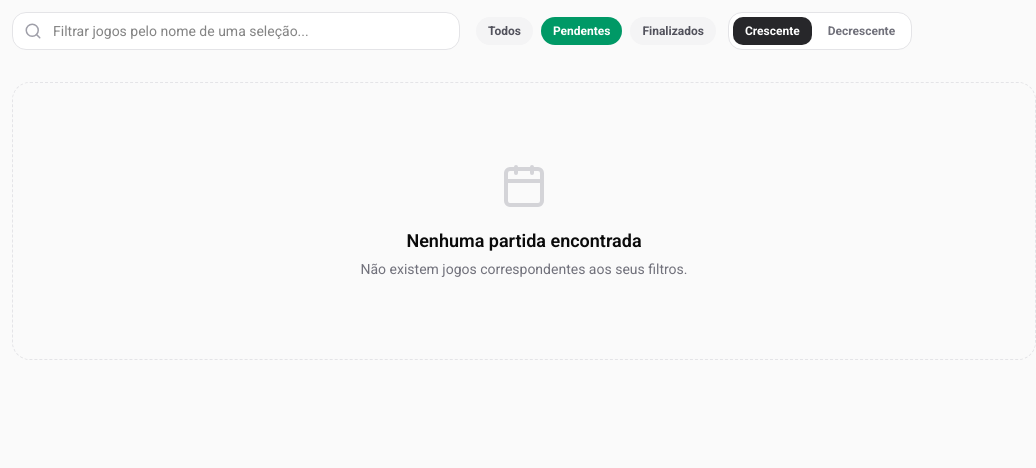
PalpitesStats › Status Labels › deve exibir status "Encerrado" quando o status da partida for FINALIZADO
Click the button "Todos": click(504, 31) [476,17,533,45]
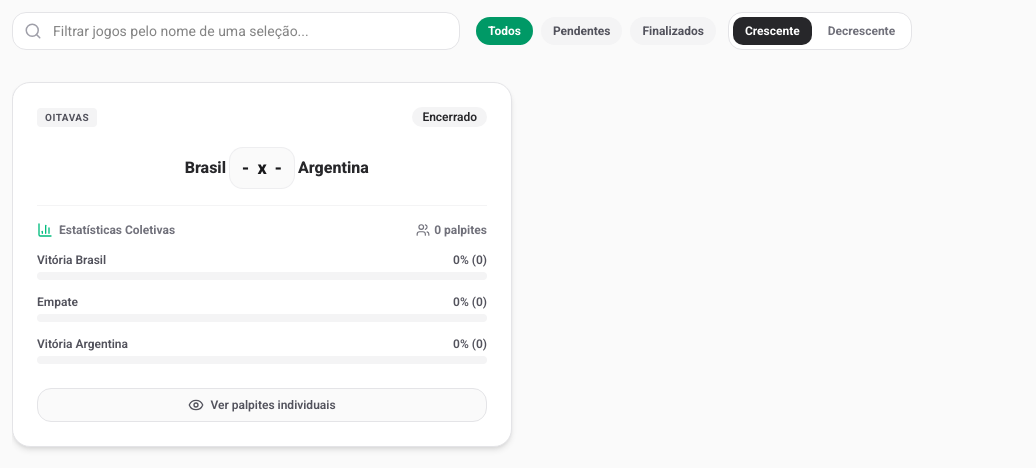
Check: the text "Encerrado" is shown, box [412,107,487,127]
